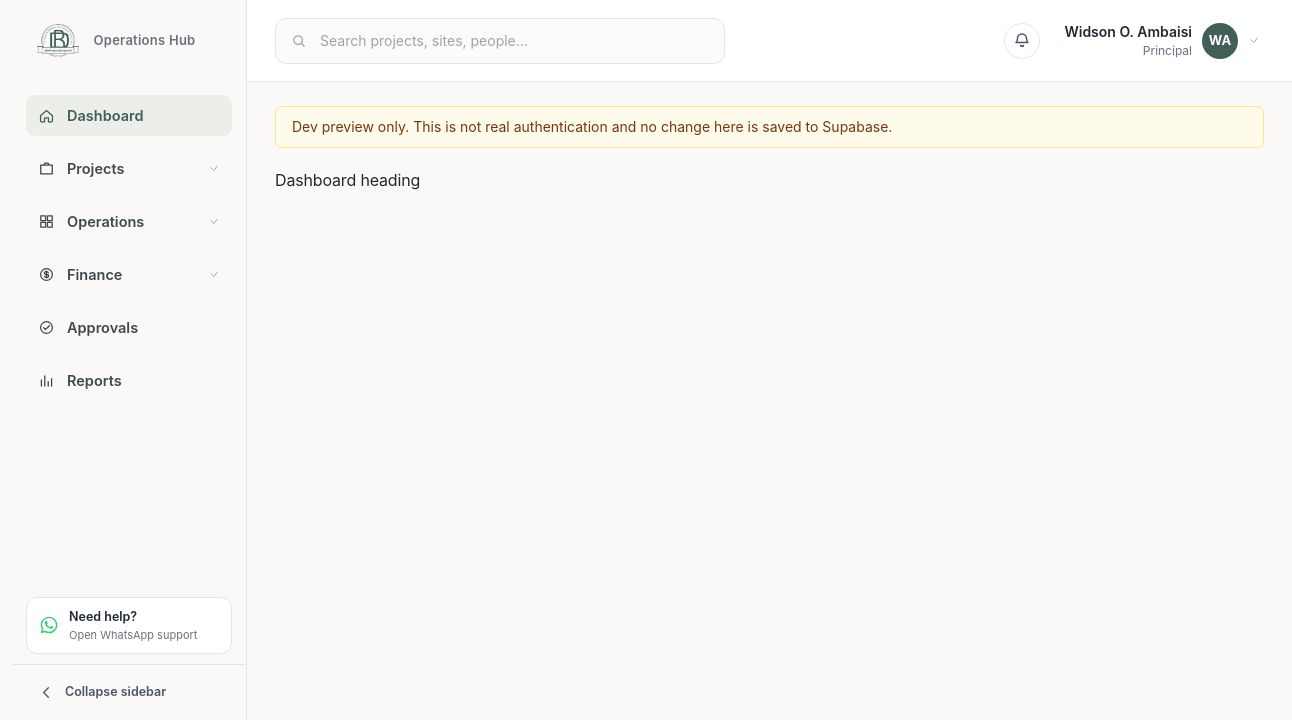
Operating-model desktop collapse (104px) › keeps the official Botanique badge recognisably visible when collapsed
Click the button "Collapse sidebar": (129, 692) top-left (12, 664), bottom-right (246, 719)
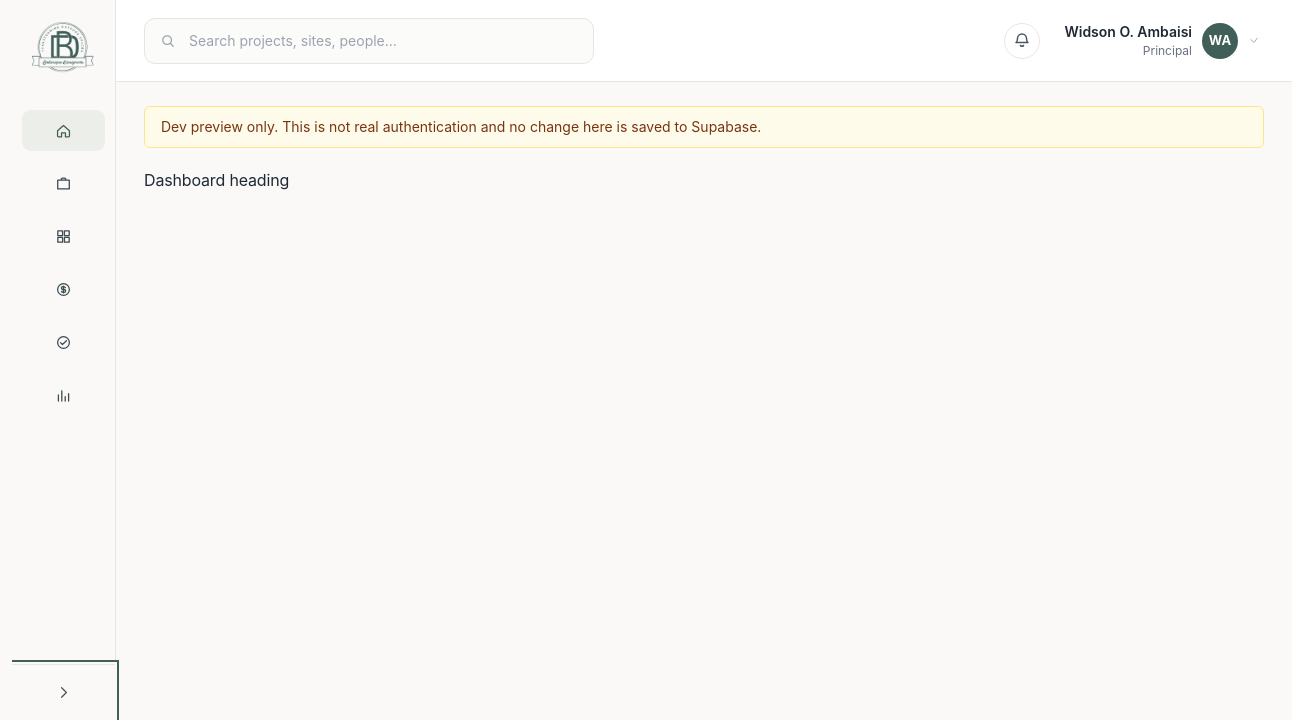
Check: the picture with alt text "Botanique Designers" is shown, box top-left (26, 18), bottom-right (100, 78)
